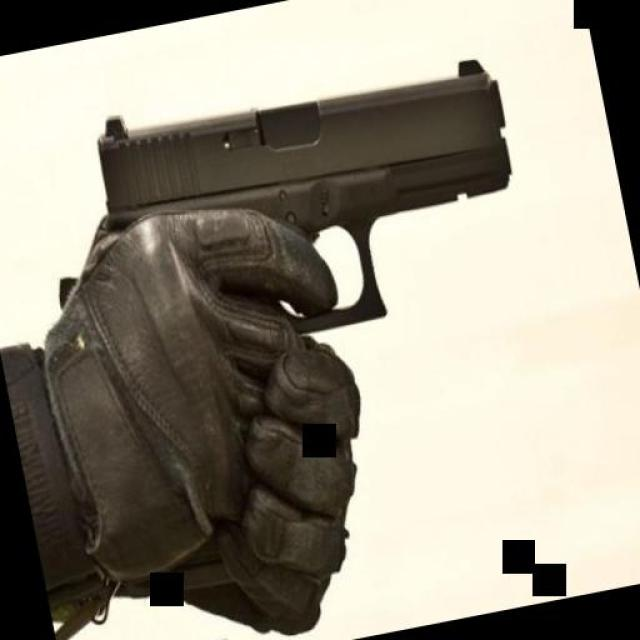gun: (80, 32, 539, 364)
